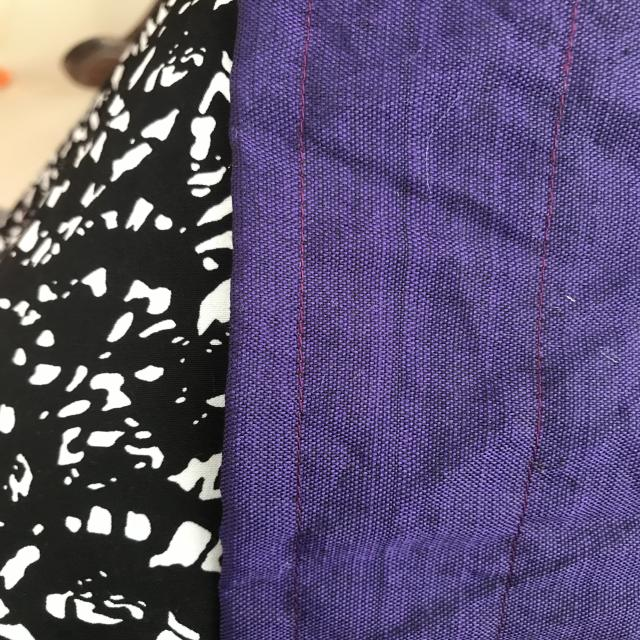good: (292, 82, 323, 234), (284, 286, 316, 429), (539, 189, 556, 314)
